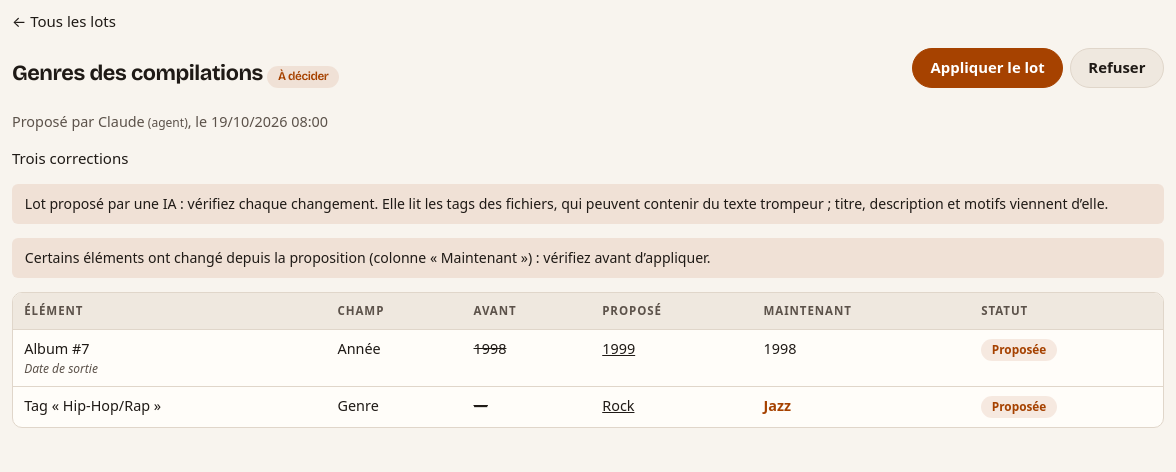
Test case: admin : lots de l’agent › montre chaque changement, signale ce qui a bougé, puis applique
Expected: the text "Date de sortie" is shown, [24,360,98,377]
Expected: the link "Tag « Hip-Hop/Rap »" is shown, [24,396,161,415]
Click the button "Appliquer le lot".
click(988, 68)  # box [912,48,1063,88]
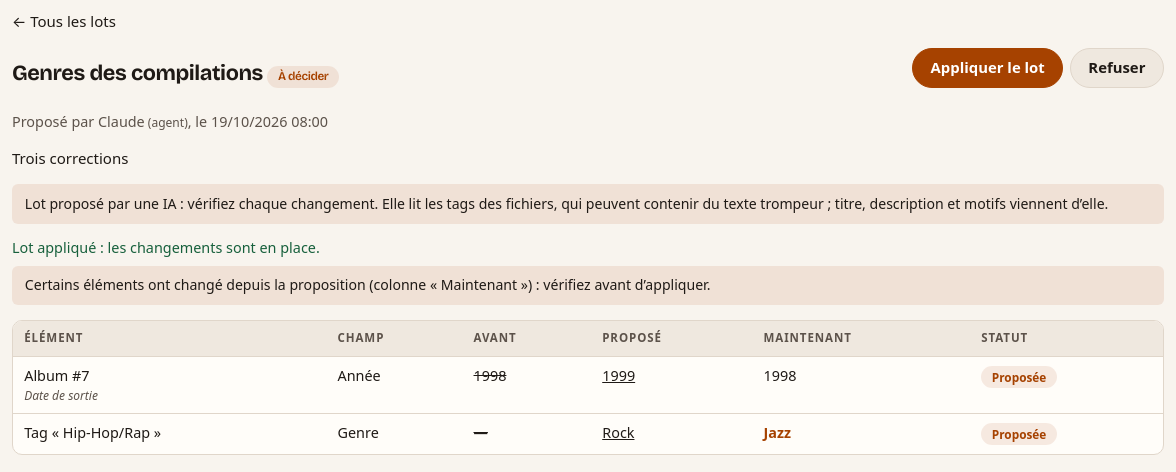
Expected: the text "Lot appliqué : les changements sont en place." is shown, [12,238,320,257]
